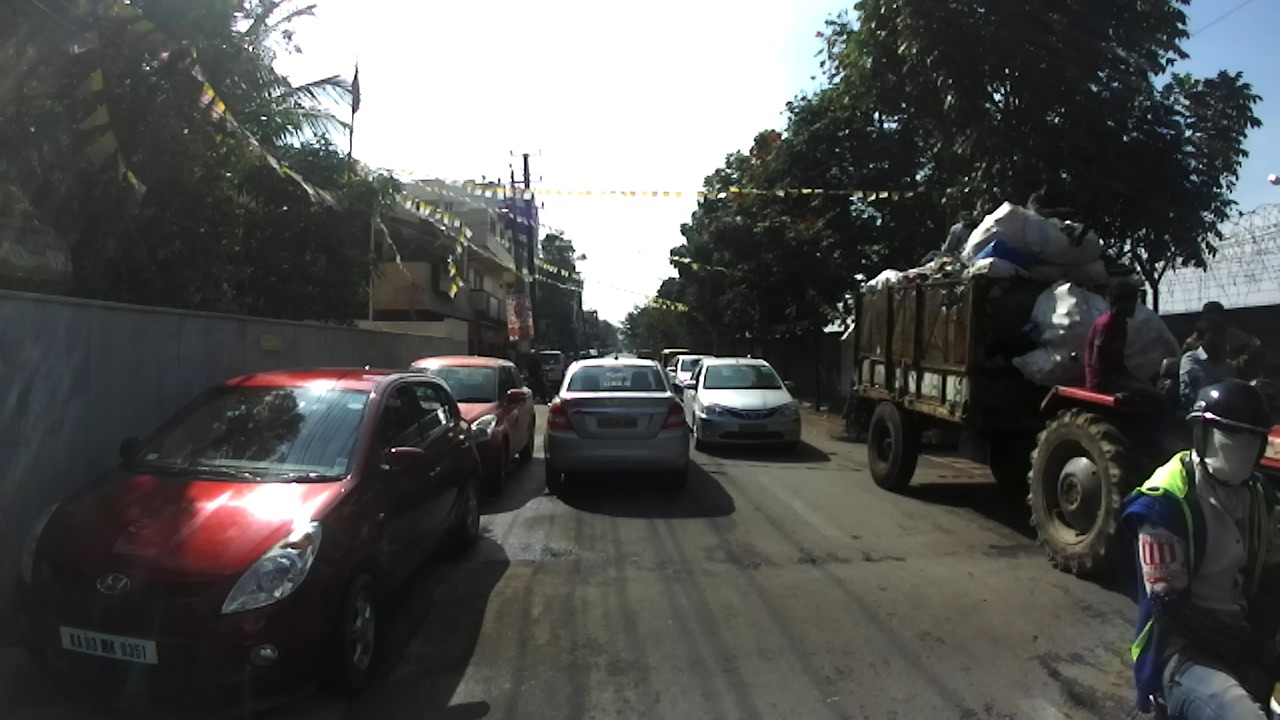car: (28, 365, 483, 720), (544, 353, 690, 493), (408, 354, 536, 495), (682, 354, 801, 452), (665, 355, 716, 402), (530, 350, 565, 395)
motorcycle: (1131, 692, 1171, 720), (524, 369, 556, 402)
rider: (1119, 383, 1280, 719), (1082, 279, 1177, 456), (1182, 318, 1241, 418), (1184, 299, 1264, 371), (915, 209, 978, 272), (1026, 170, 1076, 218), (528, 349, 548, 402)
vehicle fallback: (849, 200, 1280, 575), (842, 395, 875, 440), (660, 349, 690, 369), (565, 349, 585, 363), (585, 348, 605, 358), (605, 352, 636, 358), (637, 350, 653, 358), (627, 348, 634, 354), (616, 347, 622, 352), (609, 347, 613, 352)
